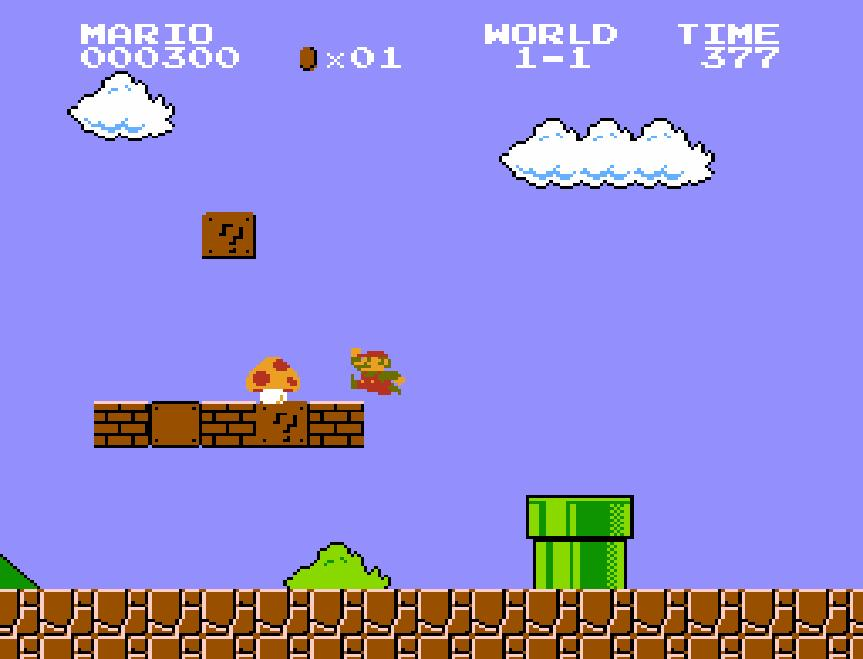little_mario: (348, 346, 406, 396)
